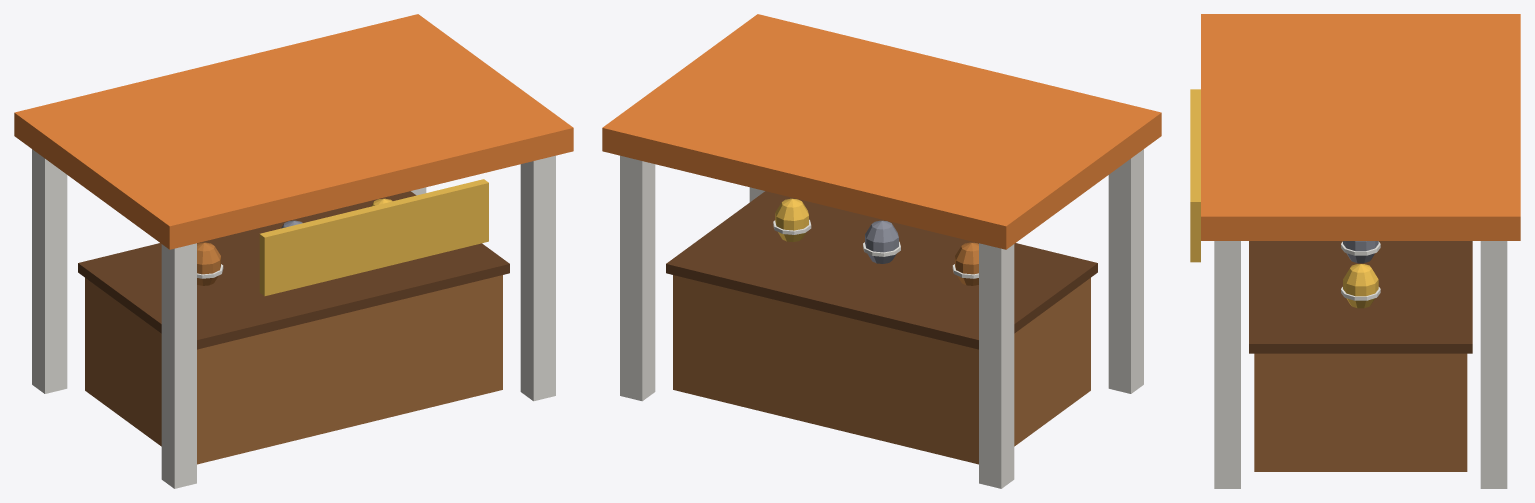
The model's file is mdl_estacion_criadero.fbx.
The picture shows the model from 3 angles, left to right: view 1: azimuth 30°, elevation 25°; view 2: azimuth 150°, elevation 25°; view 3: azimuth 270°, elevation 25°; orthographic projection. The views are drawn at different scales.
Parts seen in each view (by area): view 1: mdl_estacion_criadero; view 2: mdl_estacion_criadero; view 3: mdl_estacion_criadero.
Boxes of the visible parts, box(x1,y1,x2,y2) form: mdl_estacion_criadero: box(14, 14, 573, 488); mdl_estacion_criadero: box(602, 14, 1161, 488); mdl_estacion_criadero: box(1190, 14, 1520, 488).
Size of the model in its own units: 1800 by 1150 by 1240.
